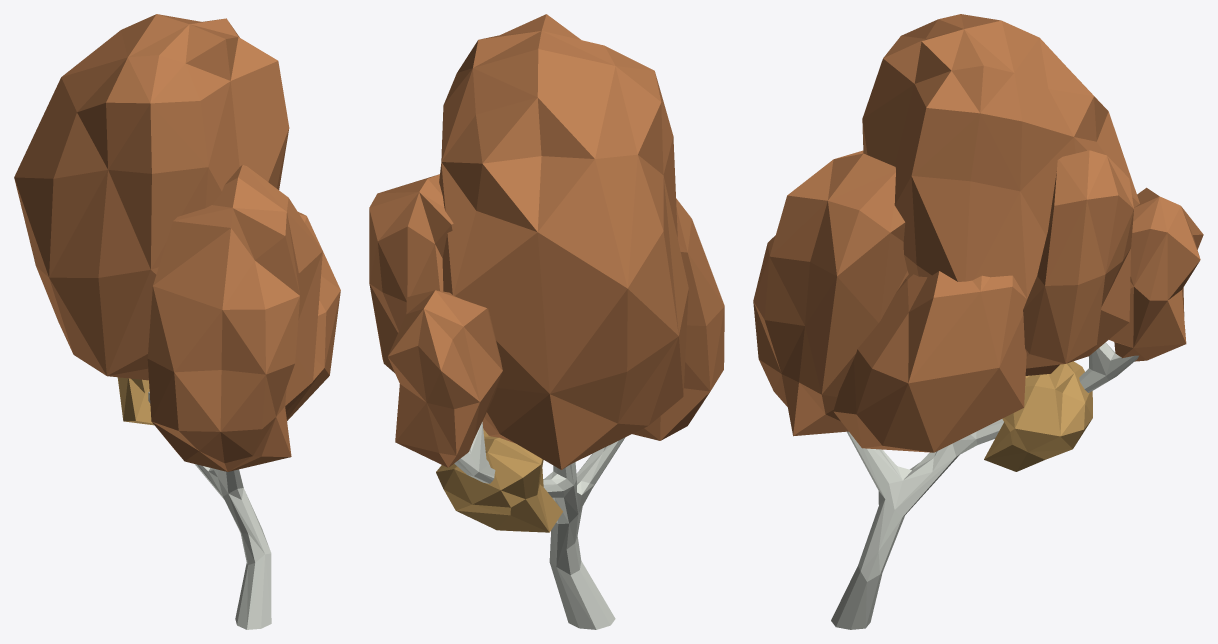
File: BirchTree_Autumn_1.lod1.glb
The picture shows the model from 3 angles, left to right: view 1: azimuth 30°, elevation 25°; view 2: azimuth 150°, elevation 25°; view 3: azimuth 270°, elevation 25°; orthographic projection. The views are drawn at different scales.
Parts seen in each view (by area): view 1: BirchTree_Autumn_1; view 2: BirchTree_Autumn_1; view 3: BirchTree_Autumn_1.
Boxes of the visible parts, x1,y1,x2,y2 form: BirchTree_Autumn_1: [14, 14, 340, 629]; BirchTree_Autumn_1: [369, 14, 724, 629]; BirchTree_Autumn_1: [753, 14, 1203, 629].
Size of the model in its own units: 1.7 by 3.57 by 2.48.
